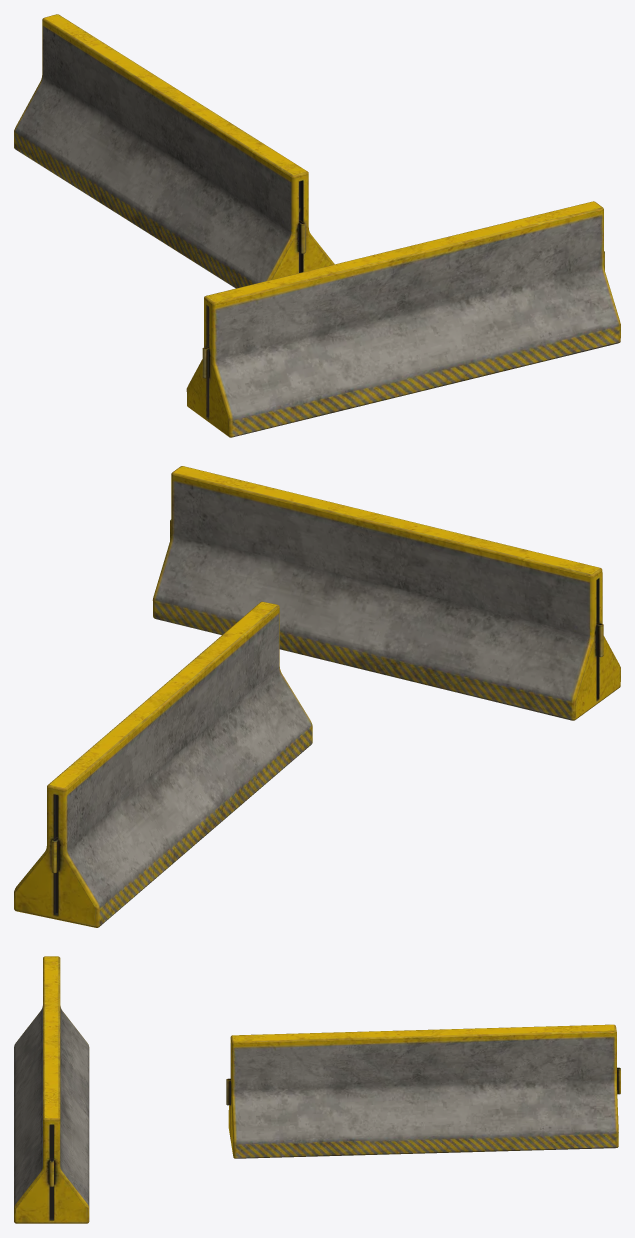
The model's file is dxb-barrier.glb.
The picture shows the model from 3 angles, top to bottom: view 1: azimuth 30°, elevation 25°; view 2: azimuth 150°, elevation 25°; view 3: azimuth 270°, elevation 25°; orthographic projection. The views are drawn at different scales.
Visible parts, largest first — view 1: Cube, Cube_1; view 2: Cube, Cube_1; view 3: Cube_1, Cube.
Part boxes in pixels (<box>): Cube: <box>186,201,620,437</box>; Cube_1: <box>14,14,334,288</box>; Cube: <box>152,466,620,720</box>; Cube_1: <box>14,601,312,927</box>; Cube_1: <box>226,1024,620,1158</box>; Cube: <box>14,956,89,1223</box>.
Bounding box in the file's own units: 2.56 × 0.7504 × 3.93.
Materials: 1 (1 with a texture image).
